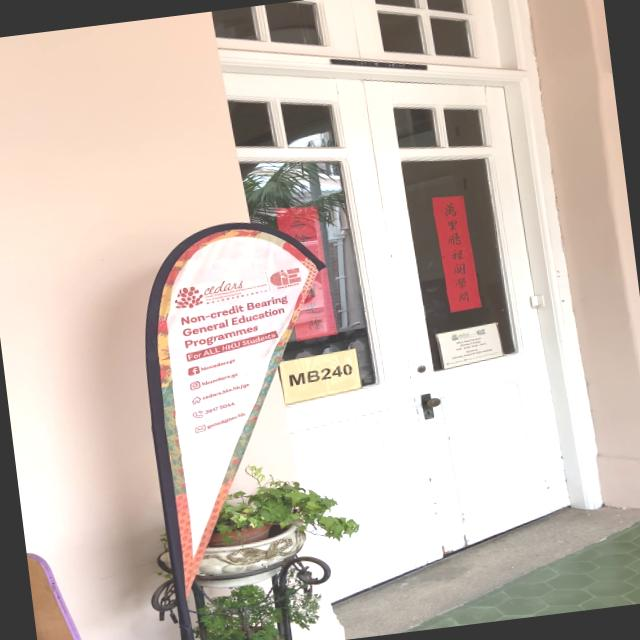room240: (278, 352, 362, 401)
